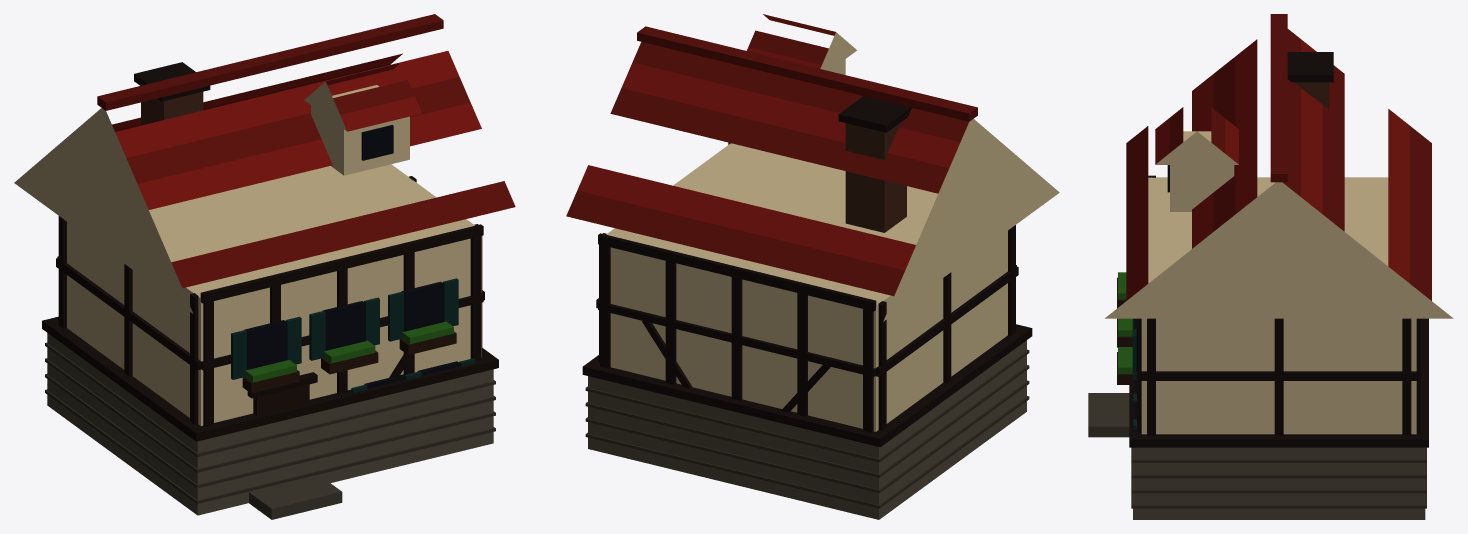
The model's file is valley-house-a.glb.
The picture shows the model from 3 angles, left to right: view 1: azimuth 30°, elevation 25°; view 2: azimuth 150°, elevation 25°; view 3: azimuth 270°, elevation 25°; orthographic projection. The views are drawn at different scales.
Visible parts, largest first — view 1: vh-a; view 2: vh-a; view 3: vh-a.
Part boxes in pixels (x1,y1,x2,y2): vh-a: (14,14,515,519); vh-a: (566,14,1059,519); vh-a: (1088,14,1453,519).
Size of the model in its own units: 7.67 by 8.05 by 7.4.
